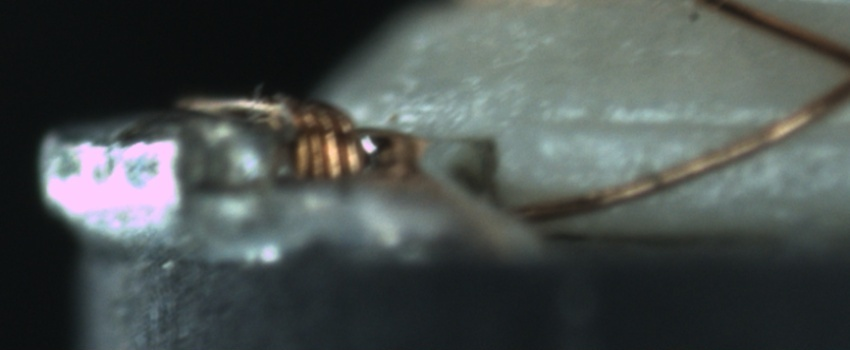DL: (505, 95, 850, 153)
TE: (180, 87, 373, 183)
